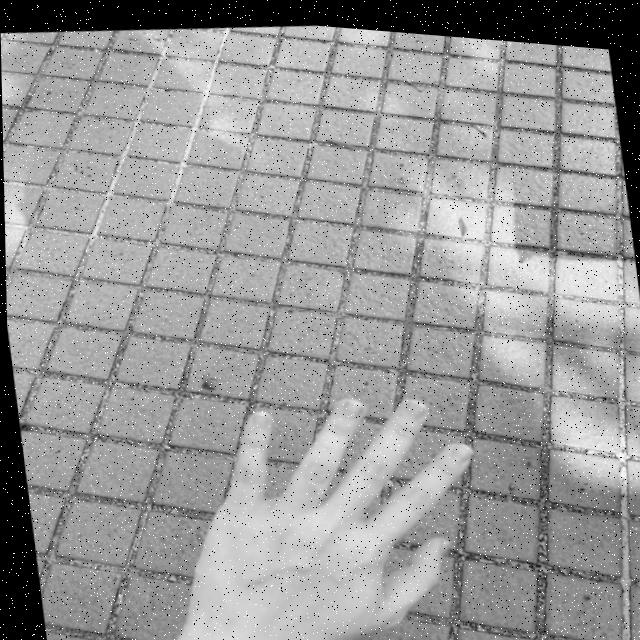hand: (77, 351, 520, 640)
